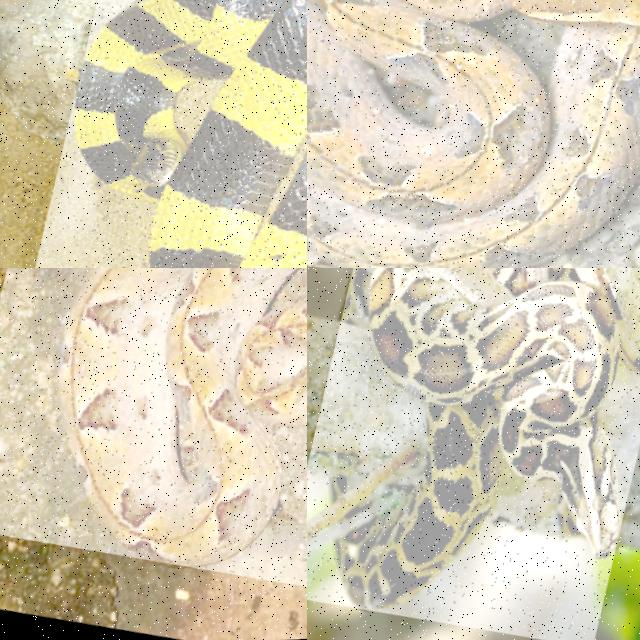Bungarus fasciatus: (74, 0, 306, 267)
Calloselasma rhodostoma: (307, 0, 639, 267), (60, 268, 306, 565)
Python bivittatus: (337, 268, 620, 609)
snake: (337, 268, 620, 609), (307, 0, 639, 267), (60, 268, 306, 565), (74, 0, 306, 267)
